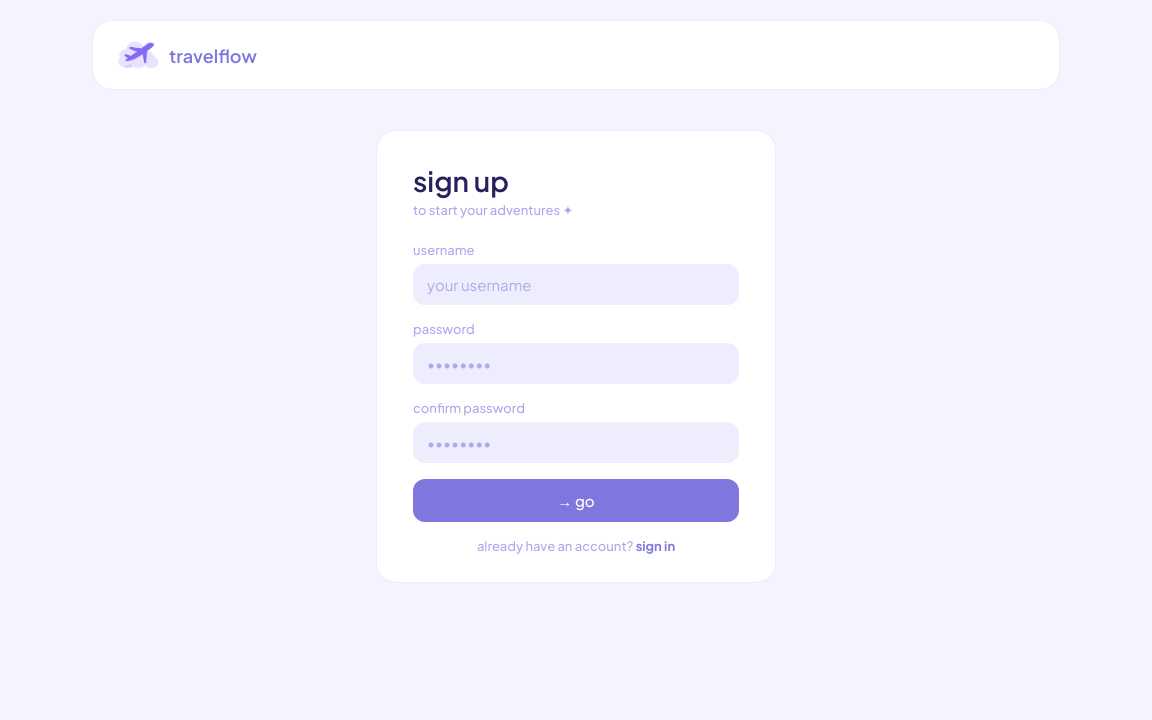
Test: RegisterPage › shows error when passwords do not match
The image size is (1152, 720).
In the field with placeholder "your username": (576, 284) [413,264,739,305], type "alice"
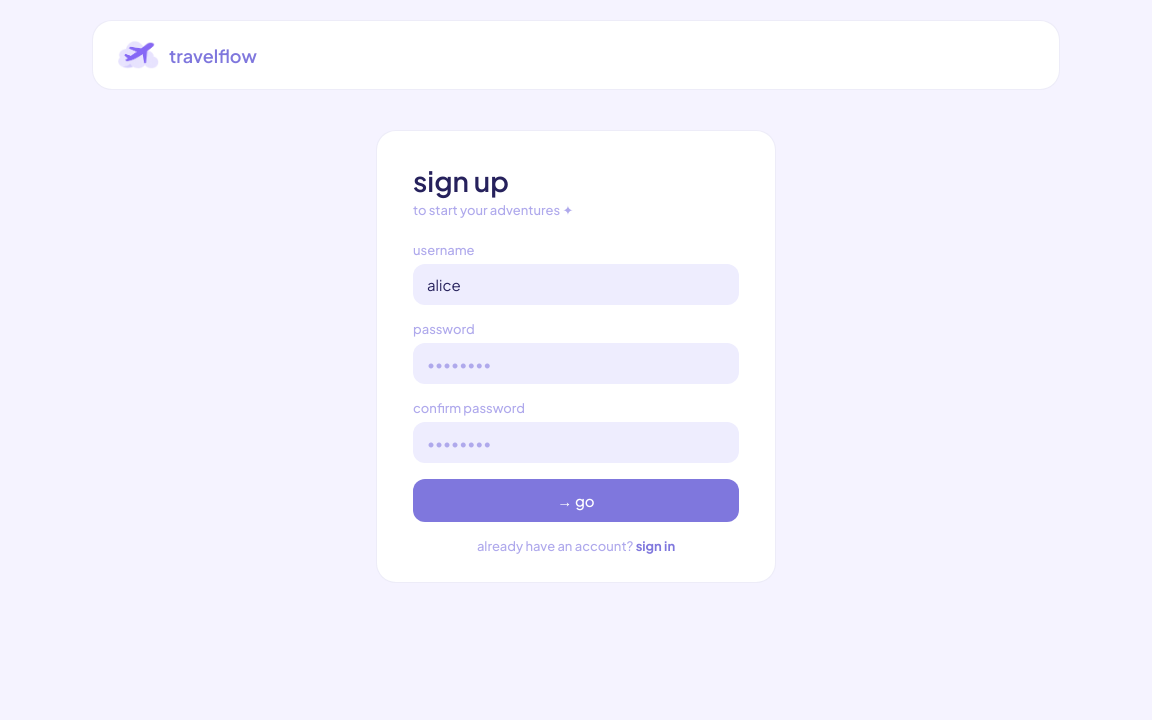
In the 1st password field with placeholder "••••••••": (576, 364) [413,343,739,384], type "pass1"
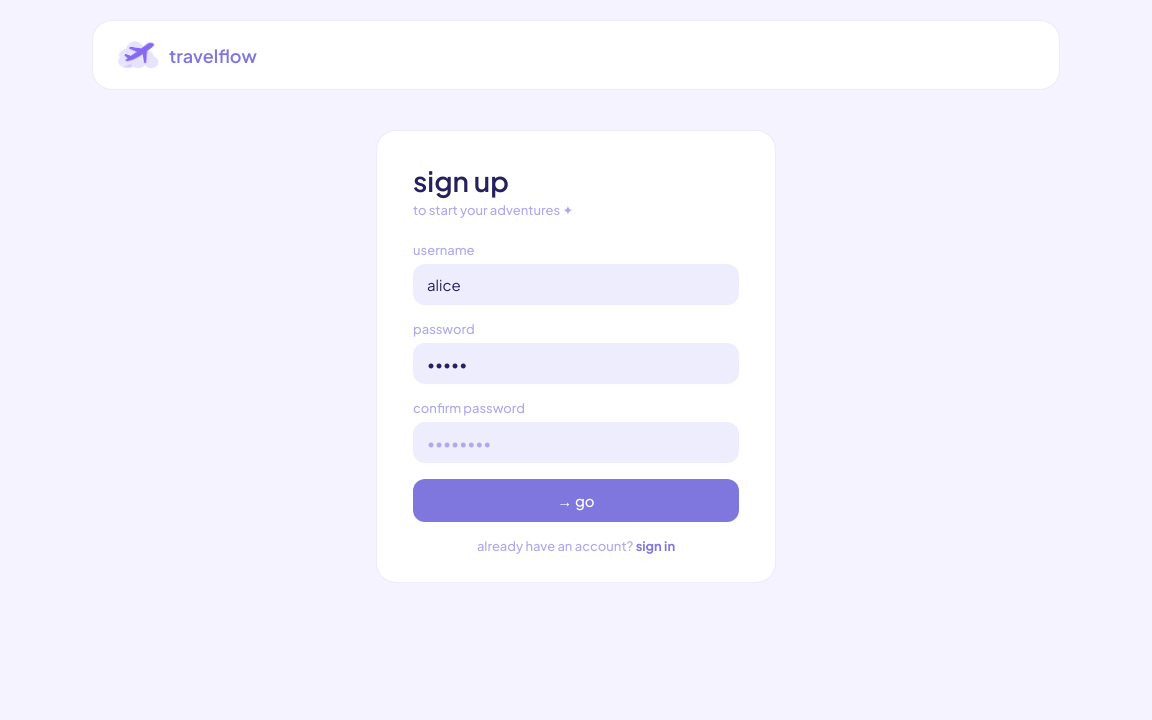
In the password field with placeholder "••••••••": (576, 442) [413,422,739,463], type "pass2"
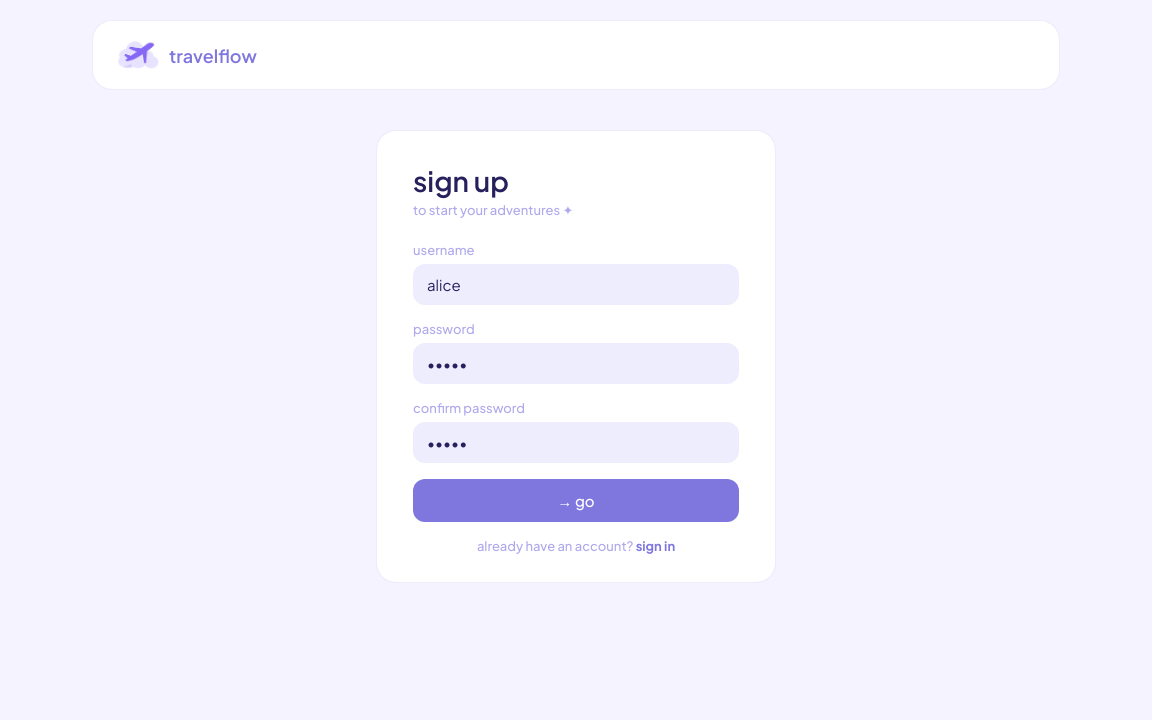
Submit the form "→ go", box [376,130,776,583]
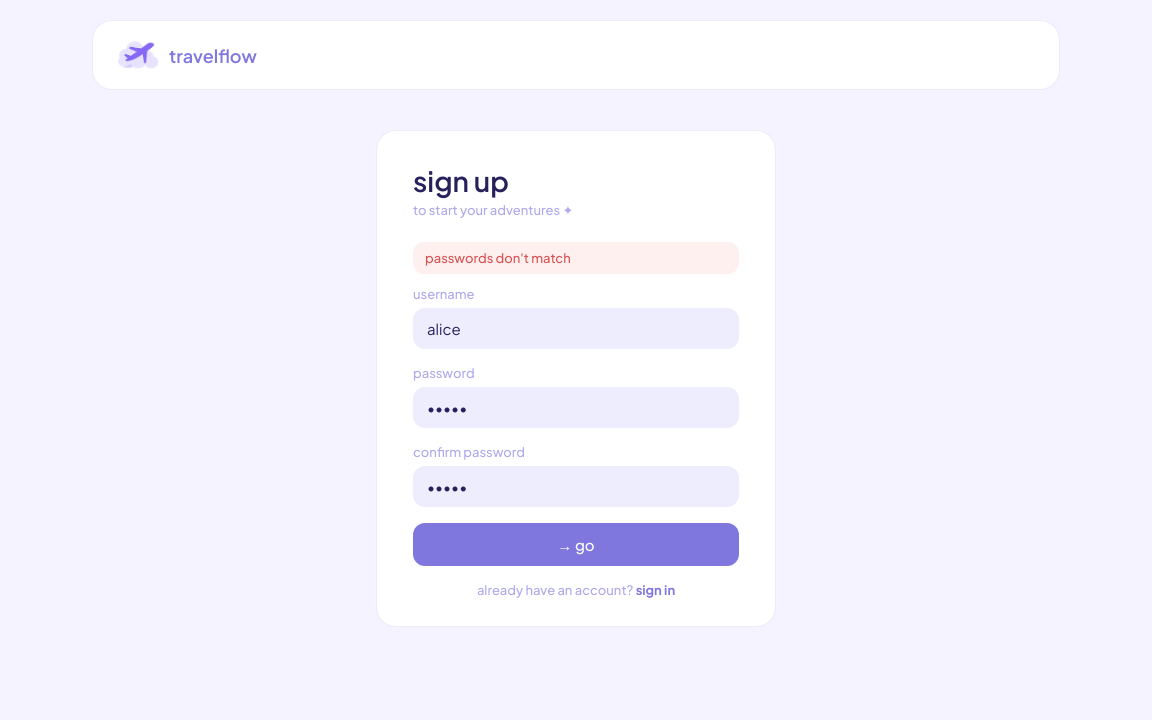
expect the text "passwords don't match" is shown: met, box [413,242,739,274]
